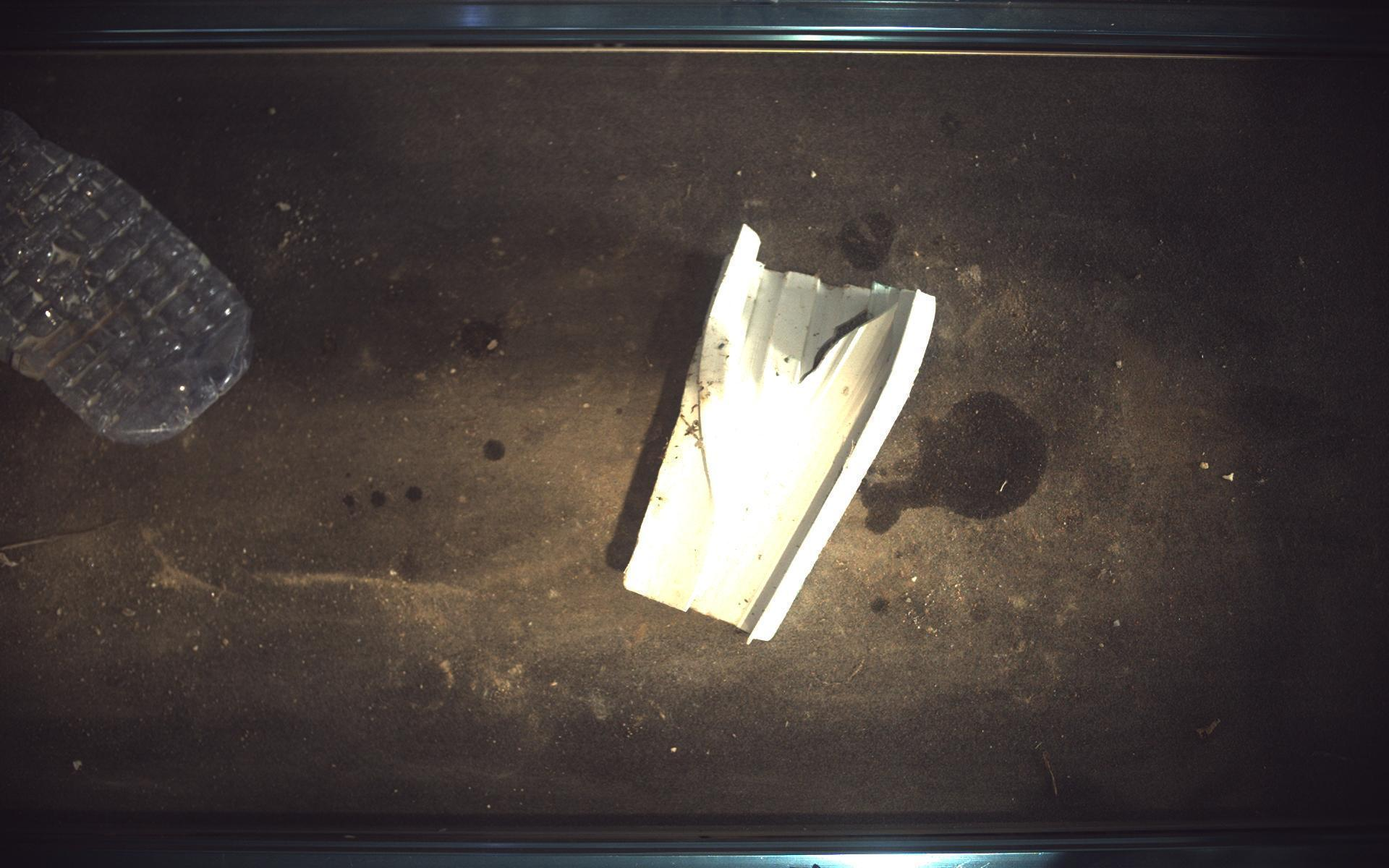general_w: (1, 109, 251, 445)
plastic: (625, 224, 938, 642)
